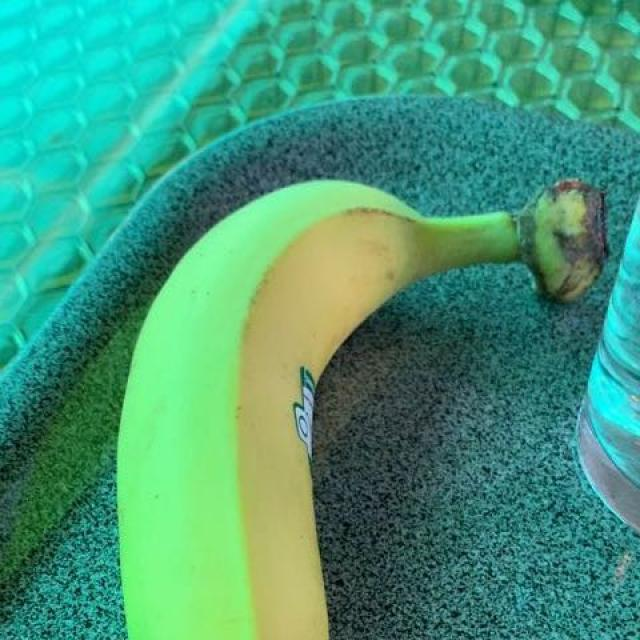Banana: (104, 161, 614, 640)
